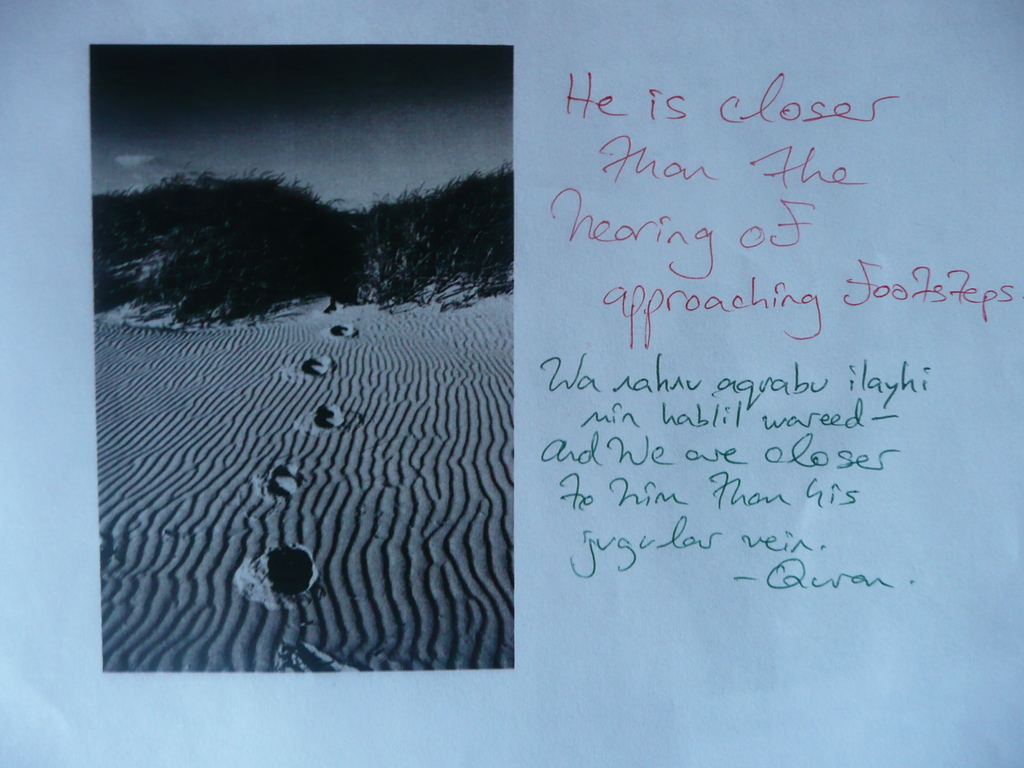Tree: (94, 157, 511, 329)
